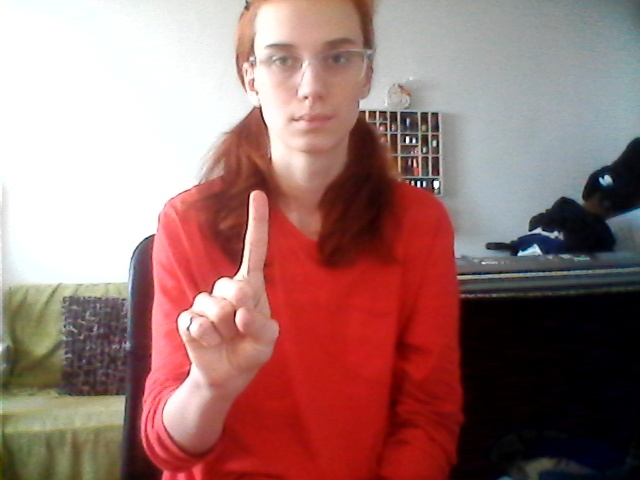i: (174, 184, 290, 394)
